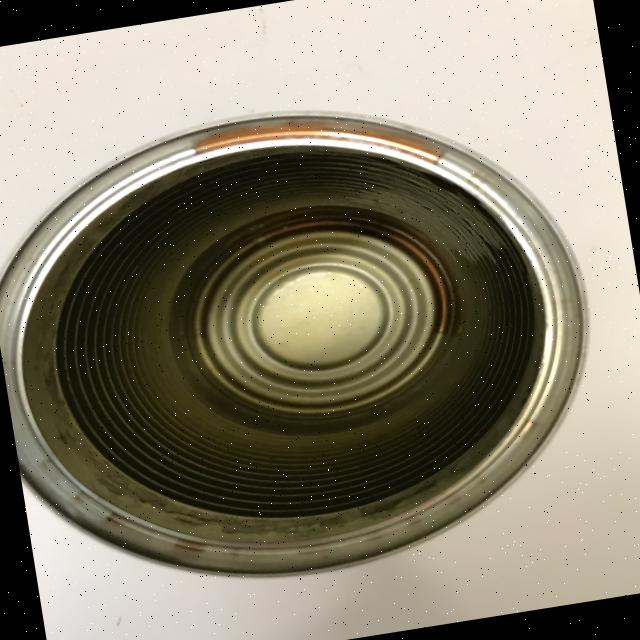metal: (0, 66, 623, 616)
